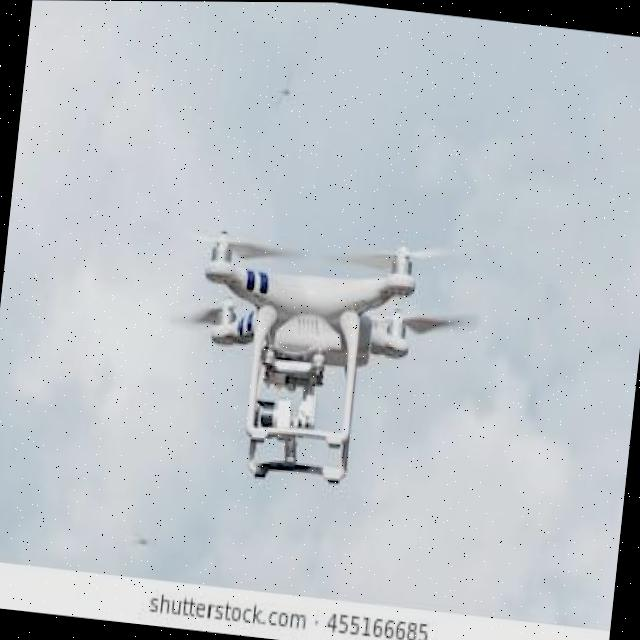drone: (134, 175, 500, 521)
